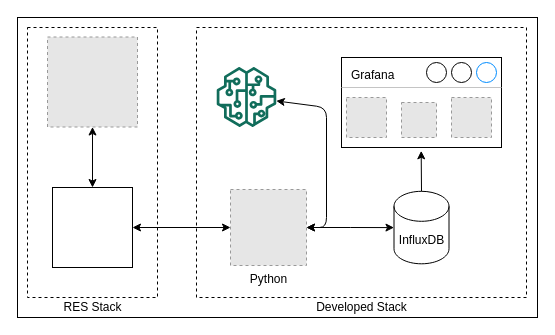
Some shapes in this 555 by 335 pixel diagram are drawn without their labels. Grey dashed boxes stand in for pictures. Each missing label, with the centre of its shape:
"ARIMA Model" goes at [246,96].
"Turbine Control Software" goes at [92,227].
